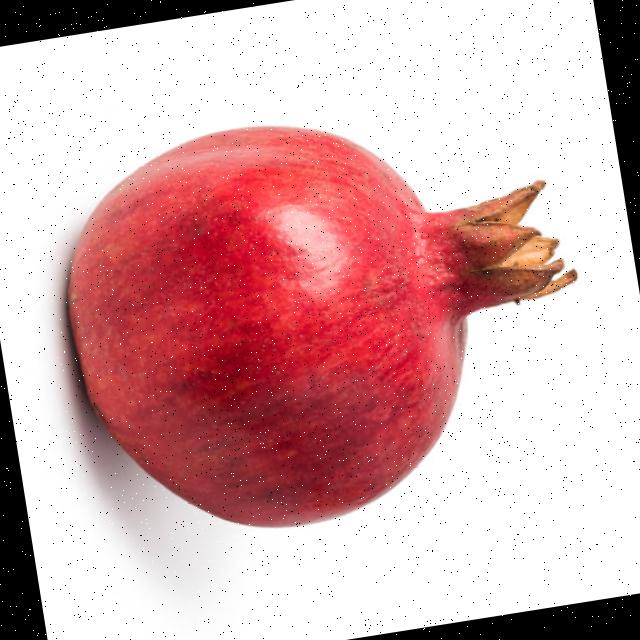Ripe: (39, 73, 612, 564)
